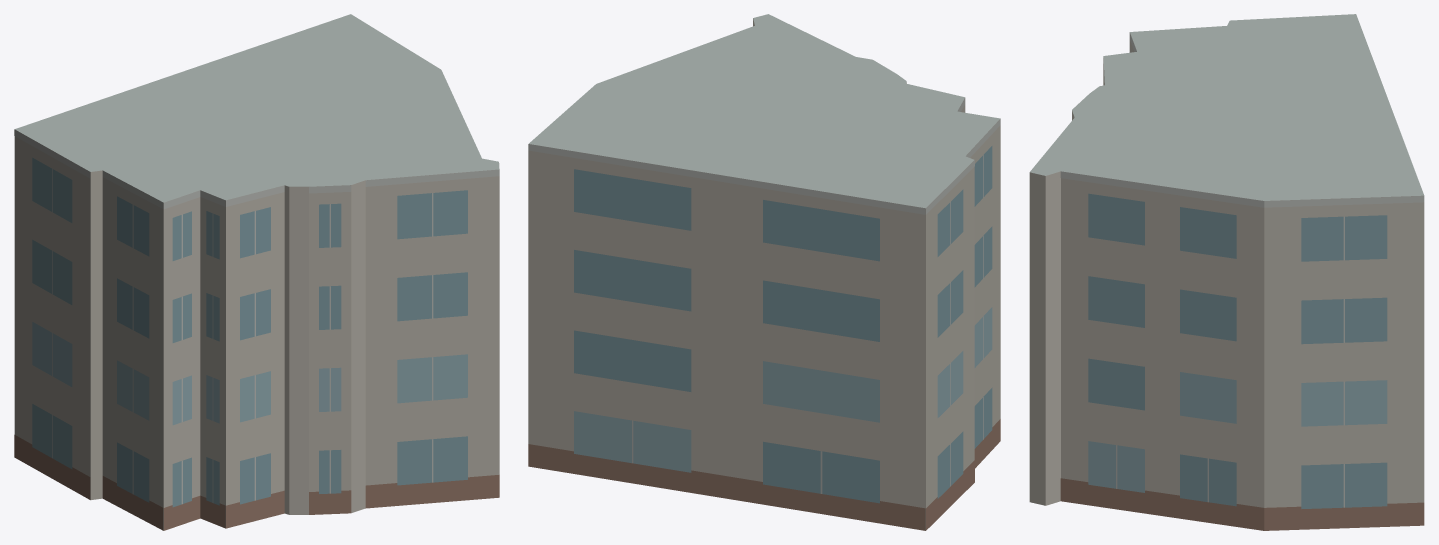
File: survey-upis-32775763.glb
3 views of the same model, side by side, from view 1: azimuth 30°, elevation 25°; view 2: azimuth 150°, elevation 25°; view 3: azimuth 270°, elevation 25° (orthographic). The views are drawn at different scales.
Visible parts, largest first — view 1: survey-upis-32775763.tmp; view 2: survey-upis-32775763.tmp; view 3: survey-upis-32775763.tmp.
Boxes of the visible parts, x1,y1,x2,y2 form: survey-upis-32775763.tmp: [14, 14, 499, 530]; survey-upis-32775763.tmp: [528, 14, 1000, 530]; survey-upis-32775763.tmp: [1029, 14, 1424, 530].
Size of the model in its own units: 14.47 by 11.9 by 12.92.
